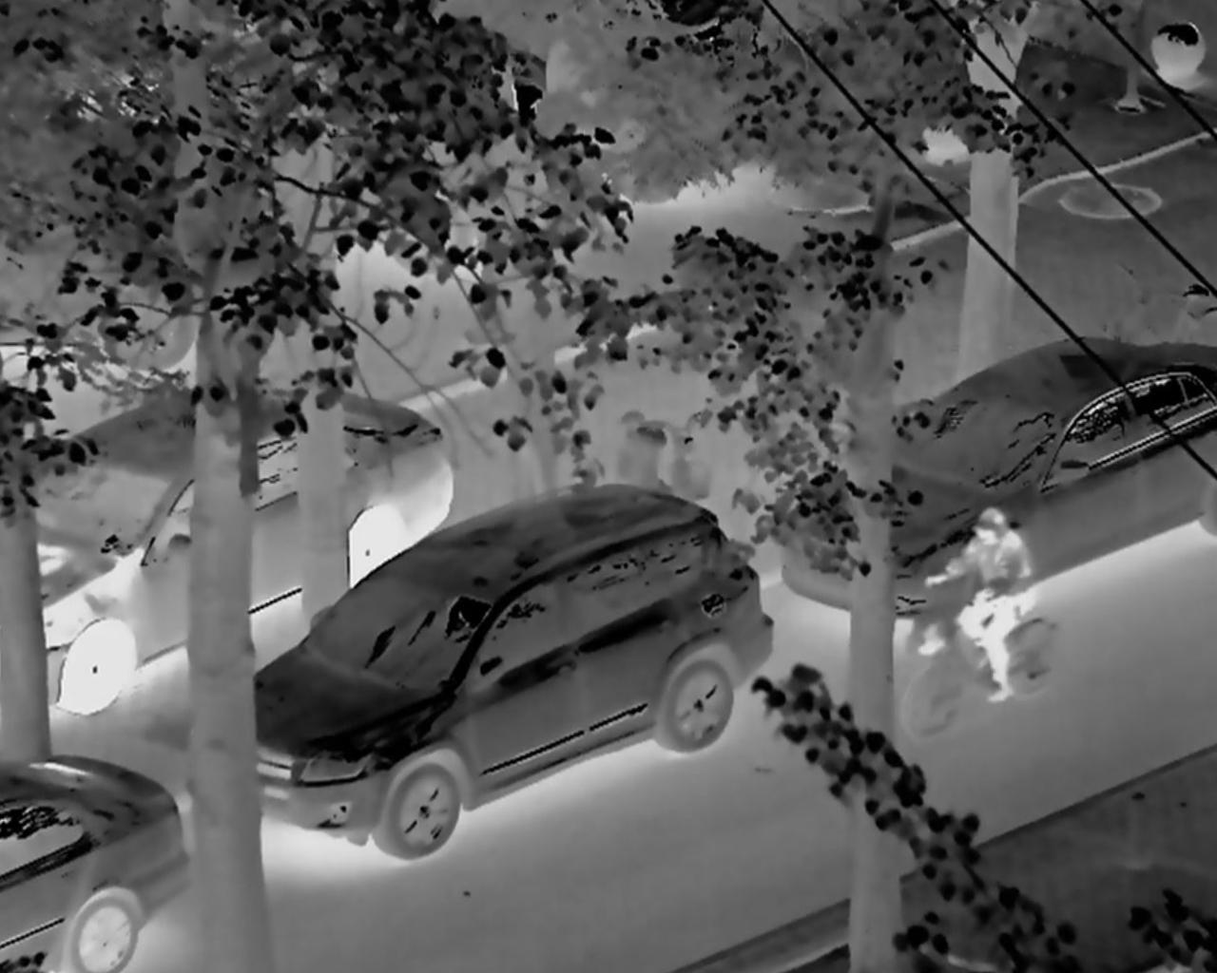person: (921, 502, 1051, 732)
